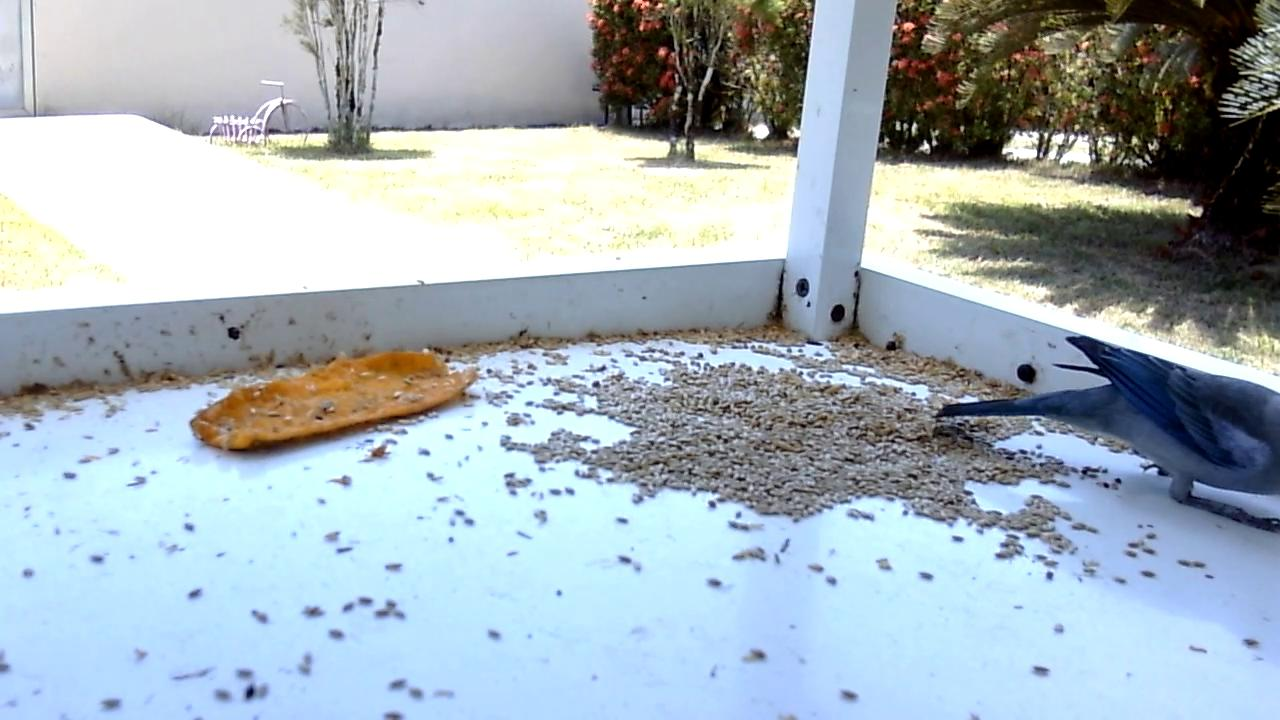sanhaco_da_amazonia: (935, 333, 1280, 537)
